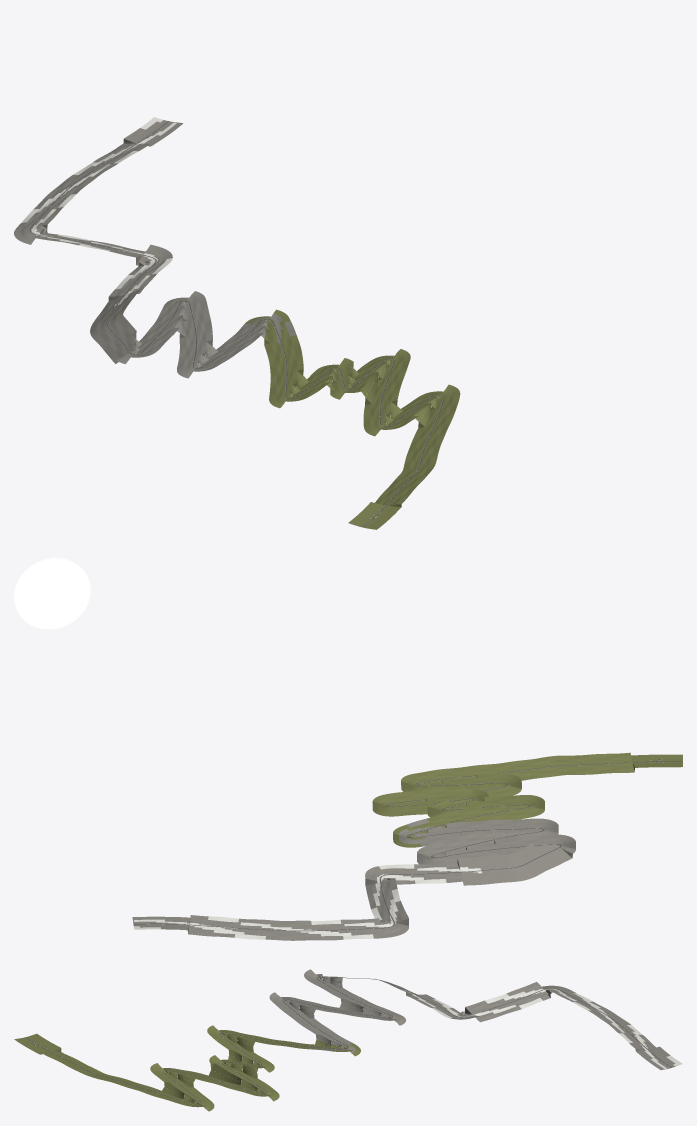
Rendered from furka.glb.
3 renders of one model, top to bottom at view 1: azimuth 30°, elevation 25°; view 2: azimuth 150°, elevation 25°; view 3: azimuth 270°, elevation 25°, orthographic. The views are drawn at different scales.
Parts seen in each view (by area): view 1: no part large enough to name; view 2: Sun, Scree_062, Scree_061; view 3: Scree_068, Pasture_026, Pasture_030, Scree_069, Pasture_014, Pasture_025, Scree_072, Pasture_028, Pasture_015.
Part boxes in pixels (x1=…): Sun: x1=14, y1=558, x2=90, y2=629; Scree_062: x1=475, y1=855, x2=502, y2=884; Scree_061: x1=497, y1=854, x2=530, y2=882; Scree_068: x1=464, y1=1002, x2=495, y2=1022; Pasture_026: x1=209, y1=1055, x2=234, y2=1073; Pasture_030: x1=226, y1=1044, x2=258, y2=1058; Scree_069: x1=481, y1=1000, x2=511, y2=1017; Pasture_014: x1=168, y1=1080, x2=199, y2=1094; Pasture_025: x1=222, y1=1066, x2=251, y2=1079; Scree_072: x1=527, y1=982, x2=554, y2=999; Pasture_028: x1=243, y1=1061, x2=274, y2=1072; Pasture_015: x1=157, y1=1074, x2=187, y2=1088.
Bounding box in the file's own units: 6618 × 2650 × 8020.
